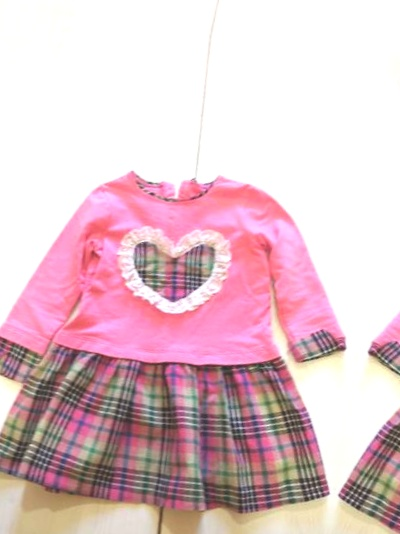Dress: (0, 131, 377, 534), (333, 188, 400, 534)
